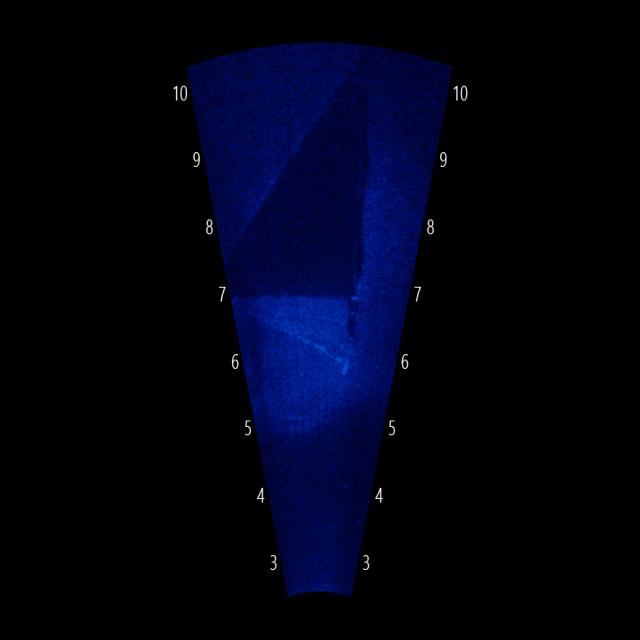triangle: (247, 273, 373, 375)
